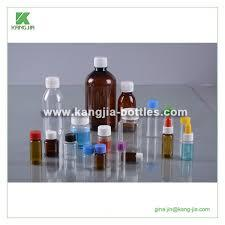Container for household chemicals: (19, 47, 212, 181)
